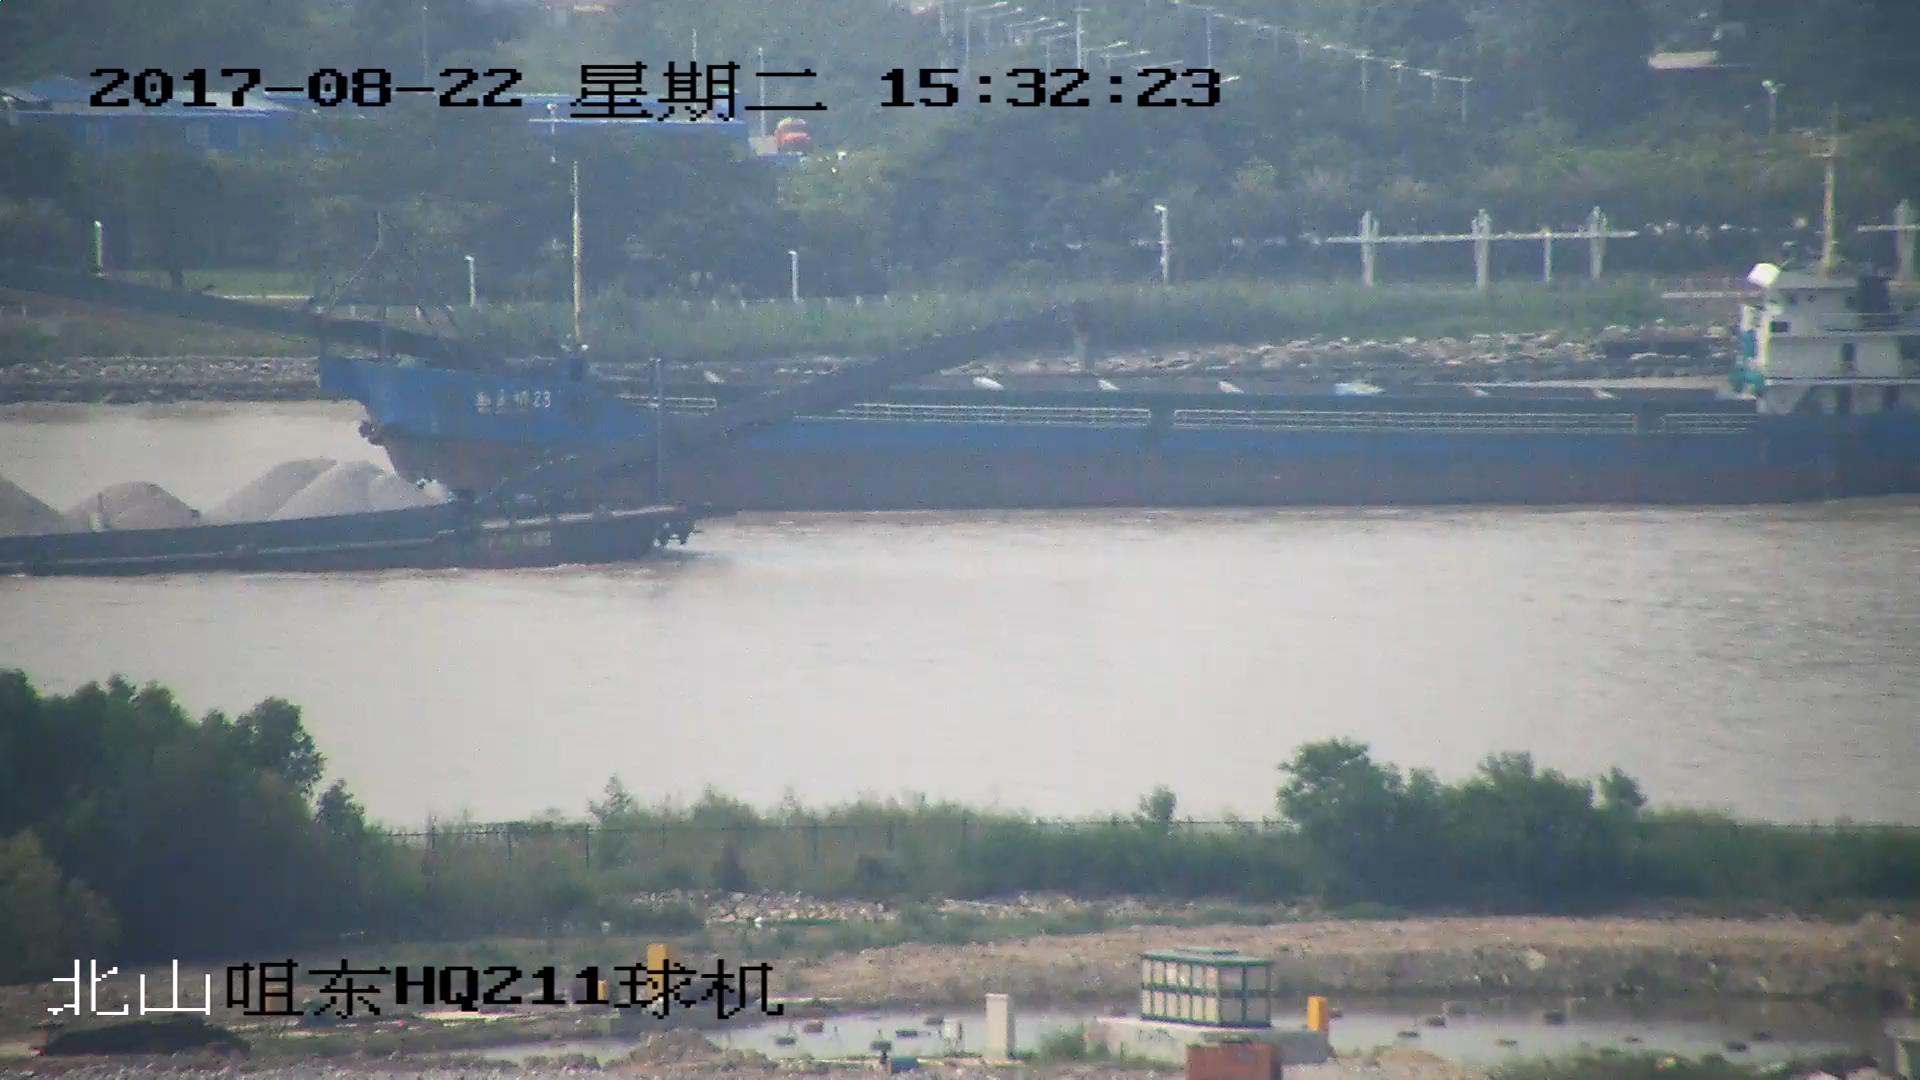bulk cargo carrier: (1, 135, 1920, 511)
ore carrier: (1, 305, 1085, 576)
